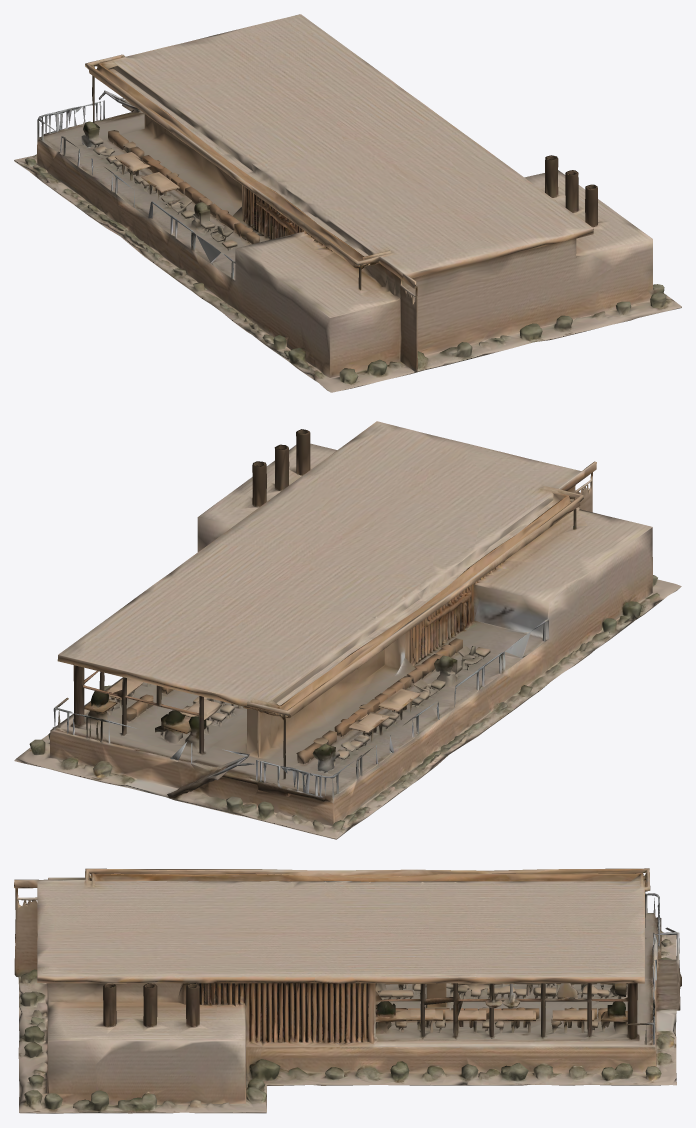
The model's file is summit-restaurant.glb.
3 renders of one model, top to bottom at view 1: azimuth 30°, elevation 25°; view 2: azimuth 150°, elevation 25°; view 3: azimuth 270°, elevation 25°, orthographic. The views are drawn at different scales.
Parts seen in each view (by area): view 1: tripo_node_4fd7c257-e316-4ed1-b0d0-edd6dd19f8fe; view 2: tripo_node_4fd7c257-e316-4ed1-b0d0-edd6dd19f8fe; view 3: tripo_node_4fd7c257-e316-4ed1-b0d0-edd6dd19f8fe.
Part boxes in pixels (<box>): tripo_node_4fd7c257-e316-4ed1-b0d0-edd6dd19f8fe: <box>14,14,681,392</box>; tripo_node_4fd7c257-e316-4ed1-b0d0-edd6dd19f8fe: <box>14,421,681,839</box>; tripo_node_4fd7c257-e316-4ed1-b0d0-edd6dd19f8fe: <box>14,868,681,1113</box>.
Bounding box in the file's own units: 0.6344 × 0.1728 × 1.
Materials: 1 (1 with a texture image).
